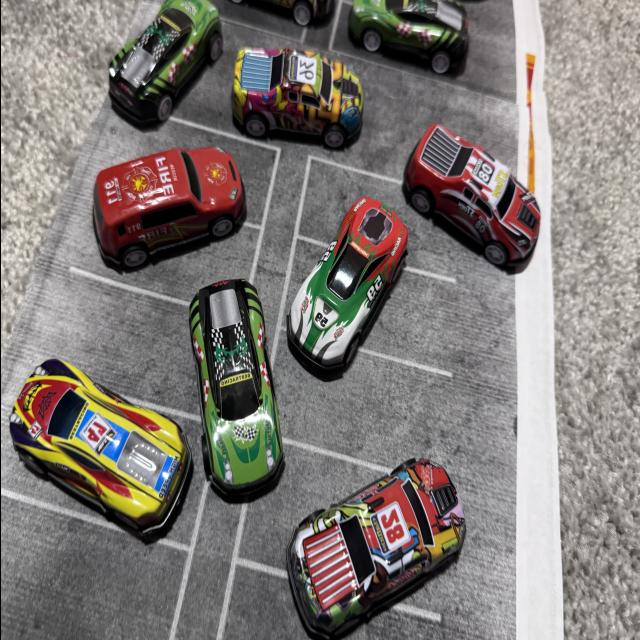Car: (22, 100, 244, 278), (243, 496, 488, 640), (16, 314, 166, 546), (274, 184, 422, 404), (180, 235, 290, 503), (395, 101, 535, 272), (225, 20, 373, 170), (109, 0, 201, 161), (356, 0, 480, 77), (222, 0, 356, 52)
